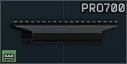Remington M700 Magpul Pro 700 chassis inline mount: (0, 0, 127, 64)
